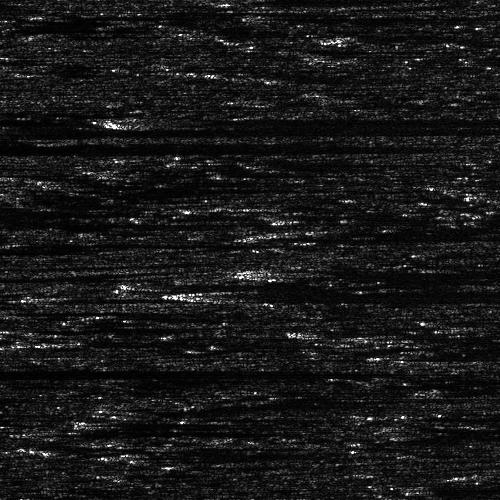rock: (137, 284, 272, 303), (239, 226, 322, 239), (109, 115, 202, 124), (271, 265, 312, 280), (28, 337, 111, 344), (467, 198, 500, 209), (249, 15, 290, 20), (0, 127, 13, 134)
shadow: (0, 365, 464, 378), (205, 284, 500, 303), (0, 127, 500, 134), (292, 265, 500, 280), (156, 115, 500, 124), (281, 226, 500, 239), (0, 144, 433, 147), (70, 337, 208, 344), (270, 15, 343, 20), (0, 336, 18, 341)
